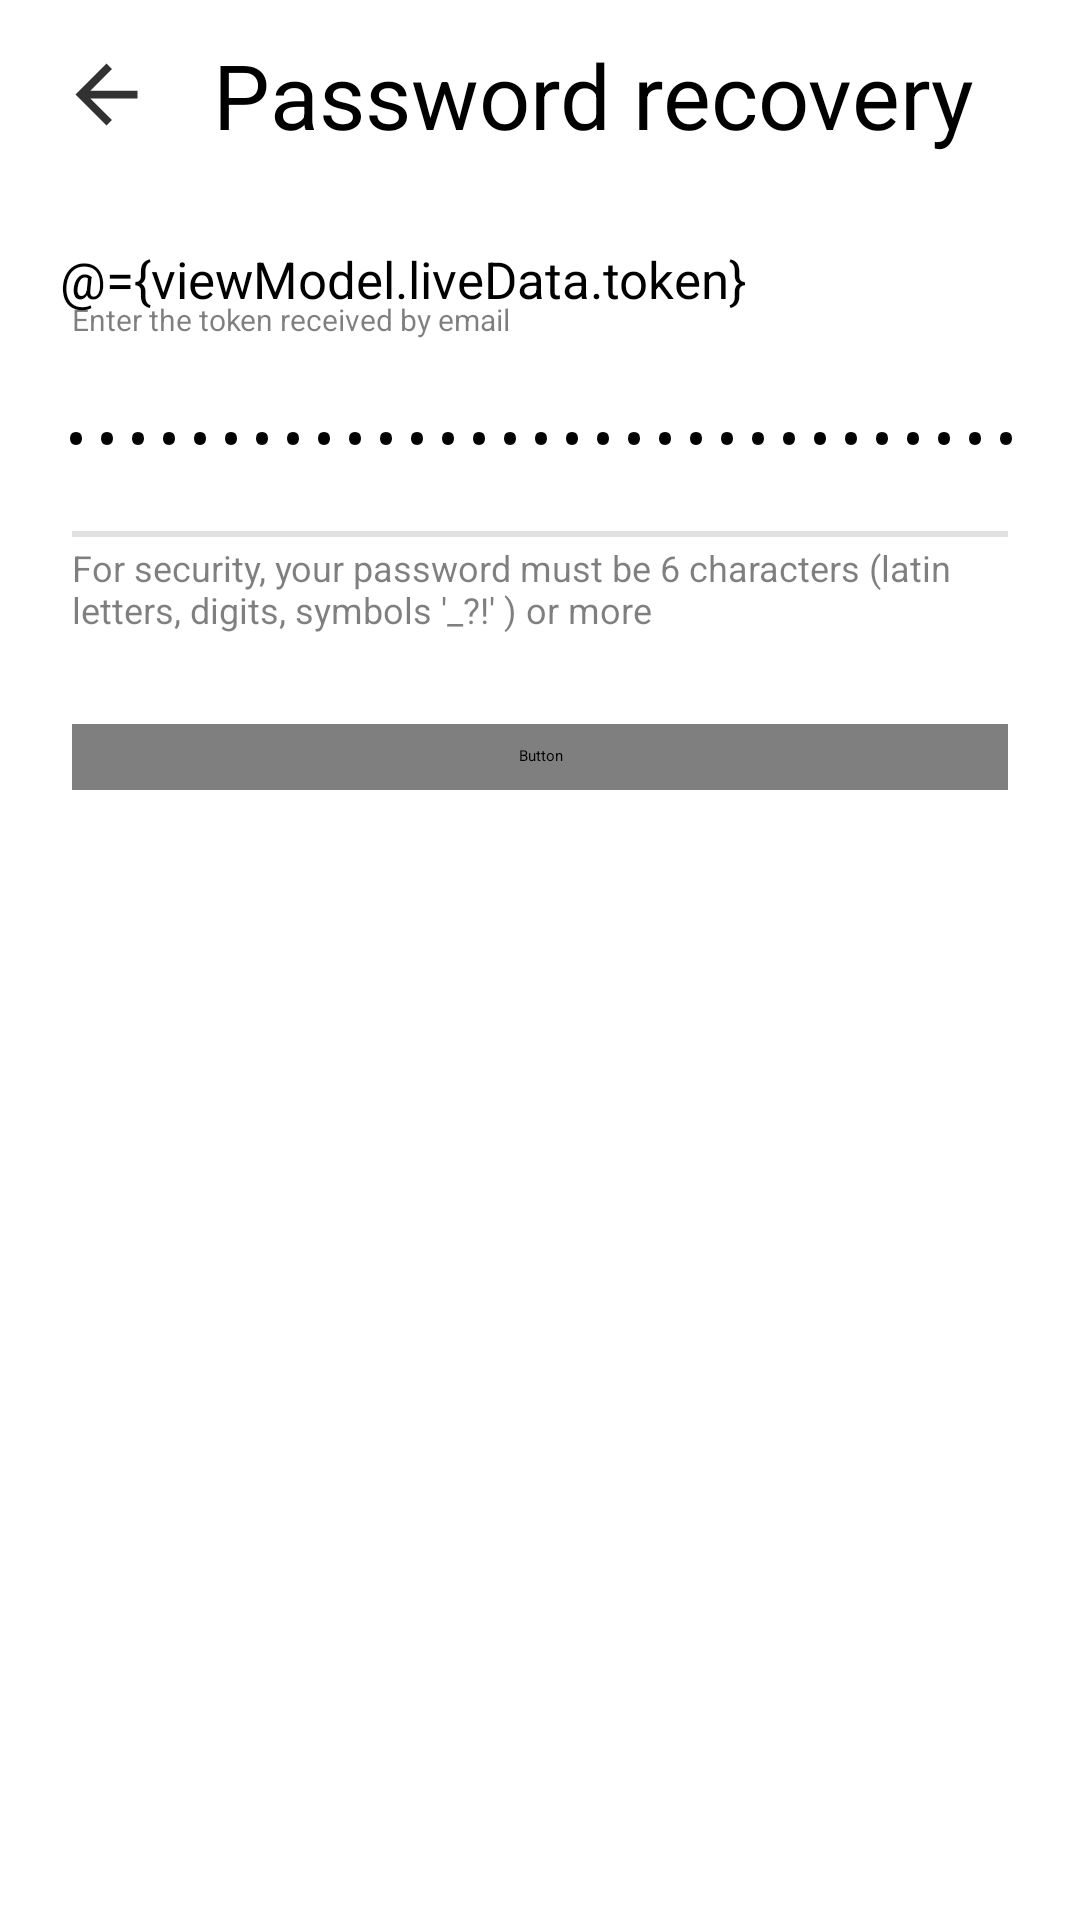

Locate icon controls on the screen. Image size 1080px x 1920px, boxes as (x1, y1, x2, y2).
Back: (75, 63, 138, 126)
